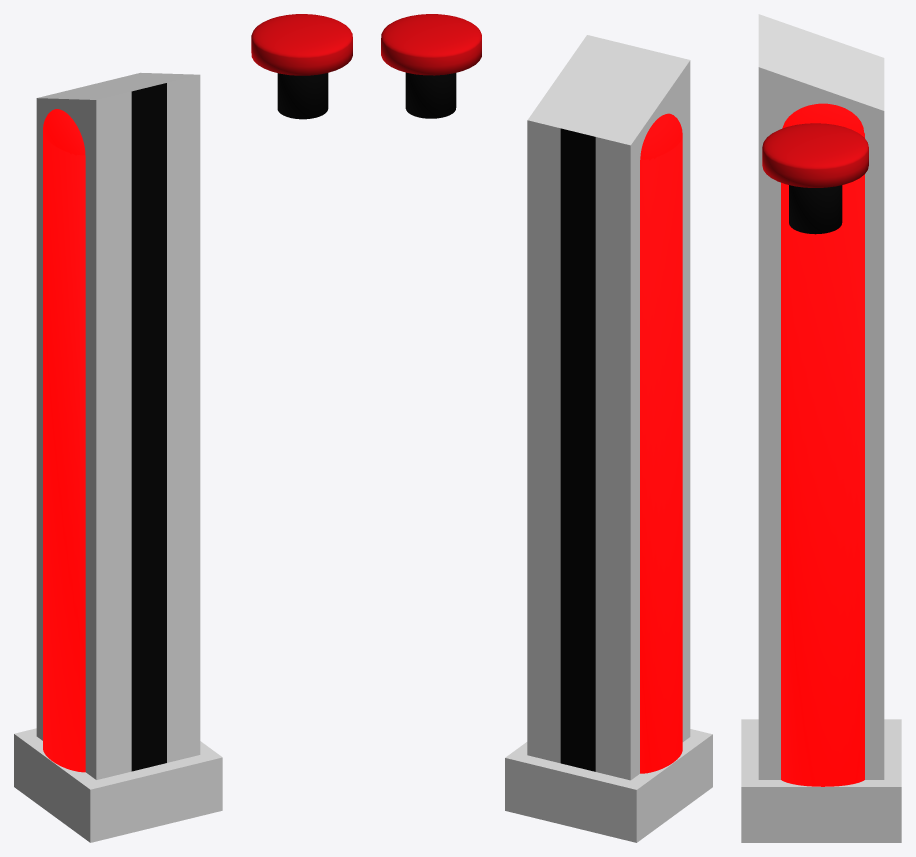
Rendered from button_pillar.glb.
The picture shows the model from 3 angles, left to right: view 1: azimuth 30°, elevation 25°; view 2: azimuth 150°, elevation 25°; view 3: azimuth 270°, elevation 25°; orthographic projection. The views are drawn at different scales.
Visible parts, largest first — view 1: Cube, Sphere, Cube.001, Cylinder.001; view 2: Cube, Sphere, Cube.002, Cylinder.001; view 3: Sphere, Cube, Cylinder.001.
Part boxes in pixels (left/top/right/bottom): Cube: left=14, top=72, right=222, bottom=842; Sphere: left=43, top=109, right=85, bottom=772; Cube.001: left=131, top=83, right=166, bottom=771; Cylinder.001: left=251, top=14, right=352, bottom=119; Cube: left=505, top=35, right=712, bottom=842; Sphere: left=640, top=113, right=682, bottom=773; Cube.002: left=560, top=128, right=595, bottom=771; Cylinder.001: left=381, top=14, right=481, bottom=118; Sphere: left=781, top=103, right=864, bottom=786; Cube: left=741, top=14, right=901, bottom=842; Cylinder.001: left=762, top=123, right=868, bottom=234.
Bounding box in the file's own units: 1.84 × 4.42 × 0.8355.
